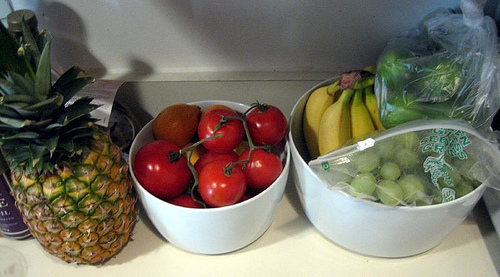pineapple: (0, 37, 139, 270)
